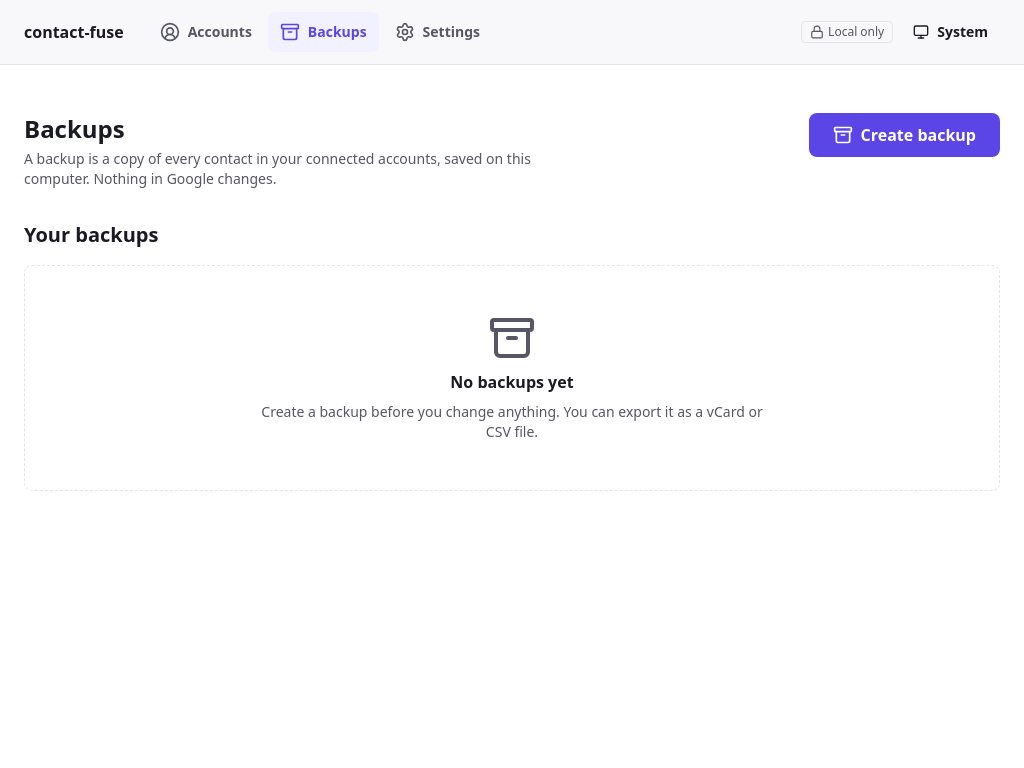
BackupsPage › shows the error copy when a backup is already running
This screenshot has width=1024, height=768.
expect the heading "No backups yet" is shown: met, box [450,370,574,394]
What coordinates should you click on to do the following:
click the button "Create backup"
I would click on:
 (904, 135)
Its box is [809,113,1000,157].
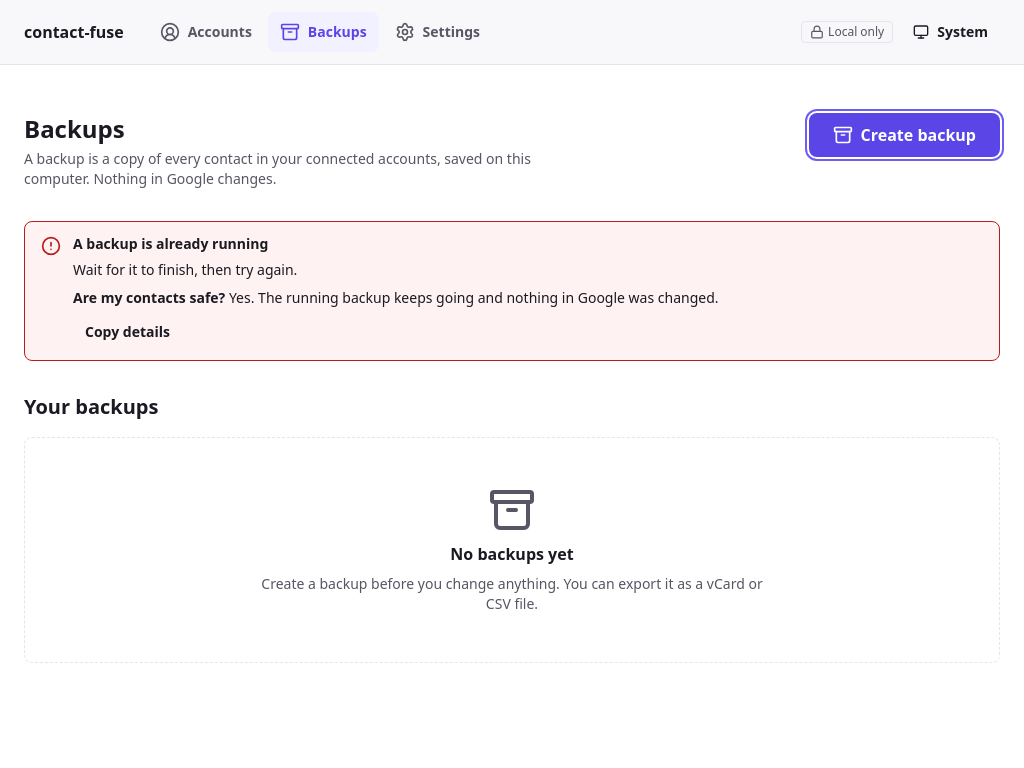
expect the message shows "A backup is already running": met, box [73,234,268,253]
expect the message shows "Are my contacts safe?": met, box [73,288,229,307]
